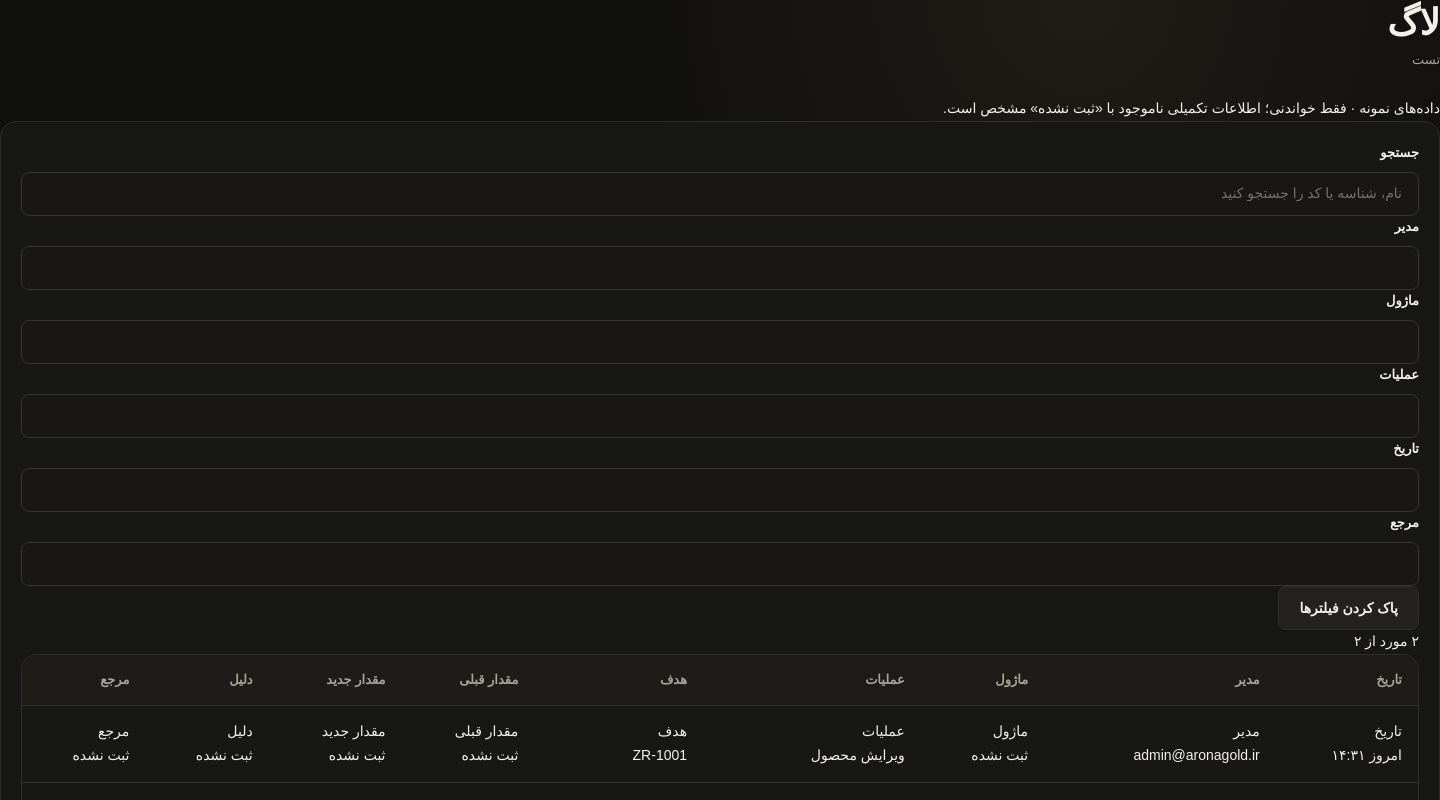
Test: admin workspace › keeps audit read-only and applies audit filters
The image size is (1440, 800).
Type "support@" into the field labelled "مدیر".
click(720, 268); type("support@")  # box top-left (21, 246), bottom-right (1419, 290)
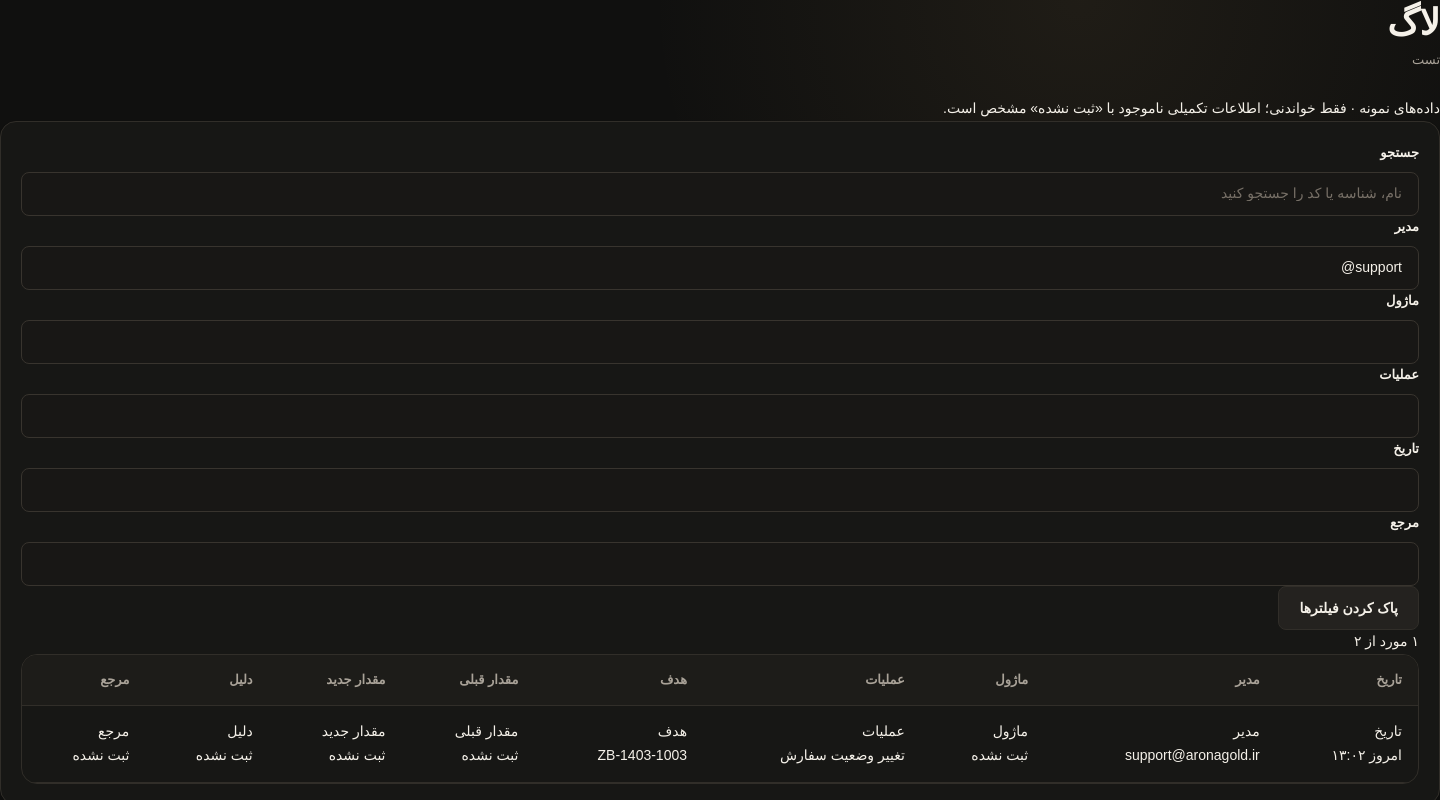
Expected: the text "support@aronagold.ir" is shown, top-left (1125, 747), bottom-right (1260, 763)
Expected: the text "admin@aronagold.ir" is gone
Type "missing-reference" into the field labelled "مرجع".
click(720, 564); type("missing-reference")  # box top-left (21, 542), bottom-right (1419, 586)
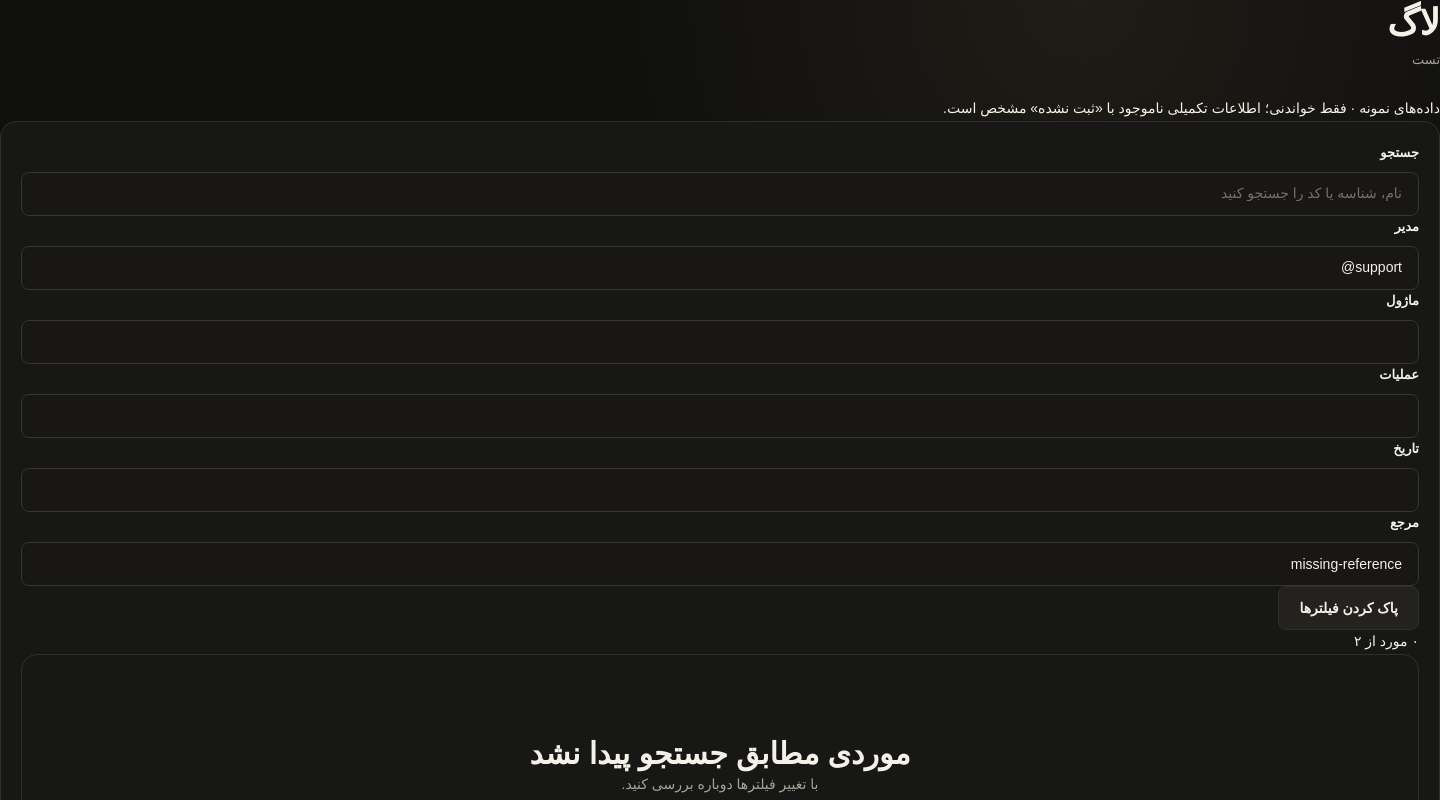
Expected: the heading "موردی مطابق جستجو پیدا نشد" is shown, top-left (530, 737), bottom-right (910, 770)
